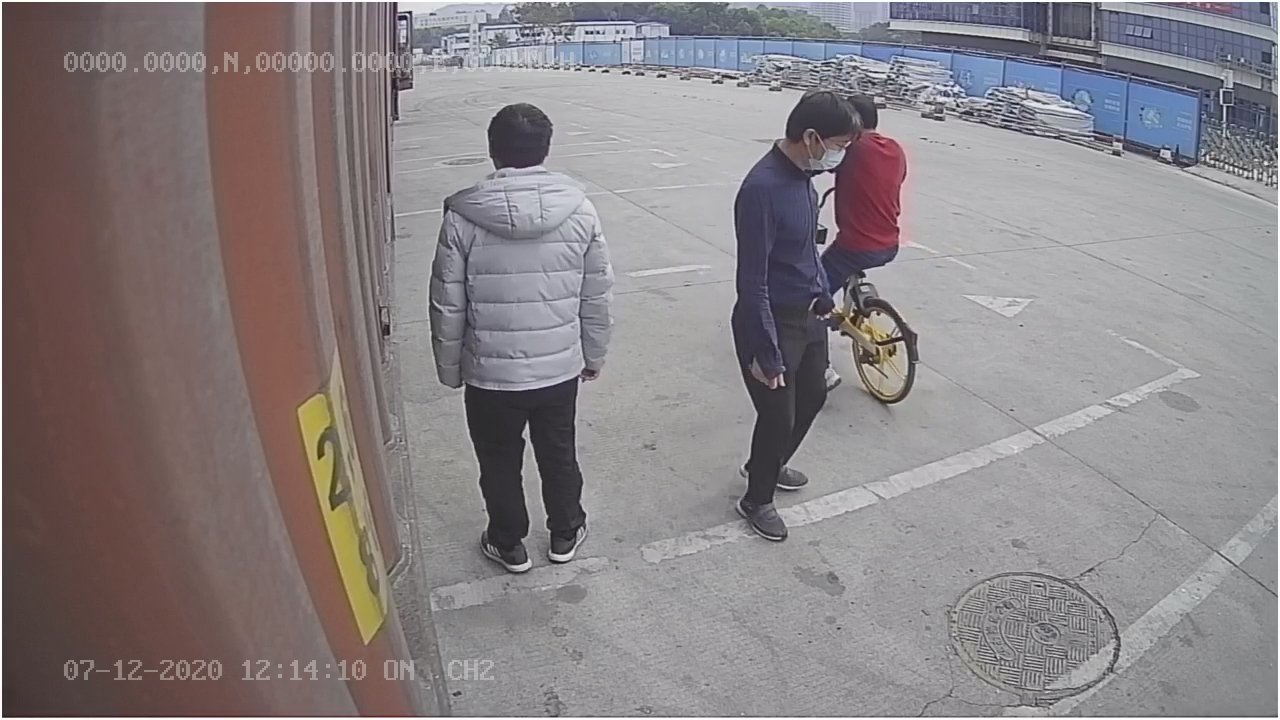person: (431, 97, 619, 573)
